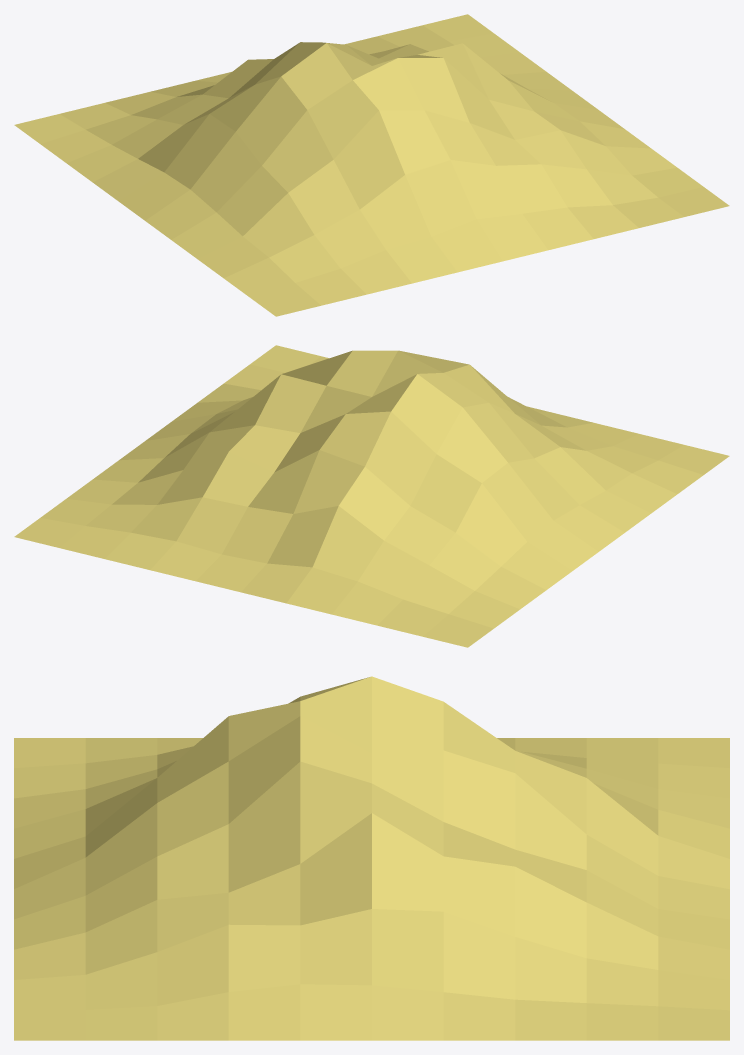
Rendered from sand.dae.
3 renders of one model, top to bottom at view 1: azimuth 30°, elevation 25°; view 2: azimuth 150°, elevation 25°; view 3: azimuth 270°, elevation 25°, orthographic. The views are drawn at different scales.
Parts seen in each view (by area): view 1: Landscape; view 2: Landscape; view 3: Landscape.
Boxes of the visible parts, bbox=[...] form: Landscape: bbox=[14, 14, 729, 316]; Landscape: bbox=[14, 345, 729, 647]; Landscape: bbox=[14, 676, 729, 1040].
Bounding box in the file's own units: 100 × 28.13 × 100.
